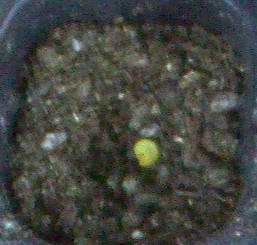pepper seed: (53, 54, 213, 222)
